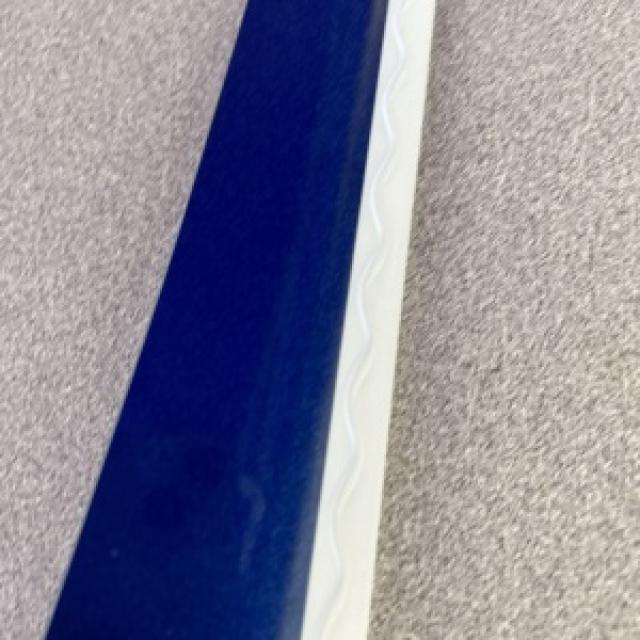healthy: (49, 0, 433, 638), (0, 0, 241, 638)
